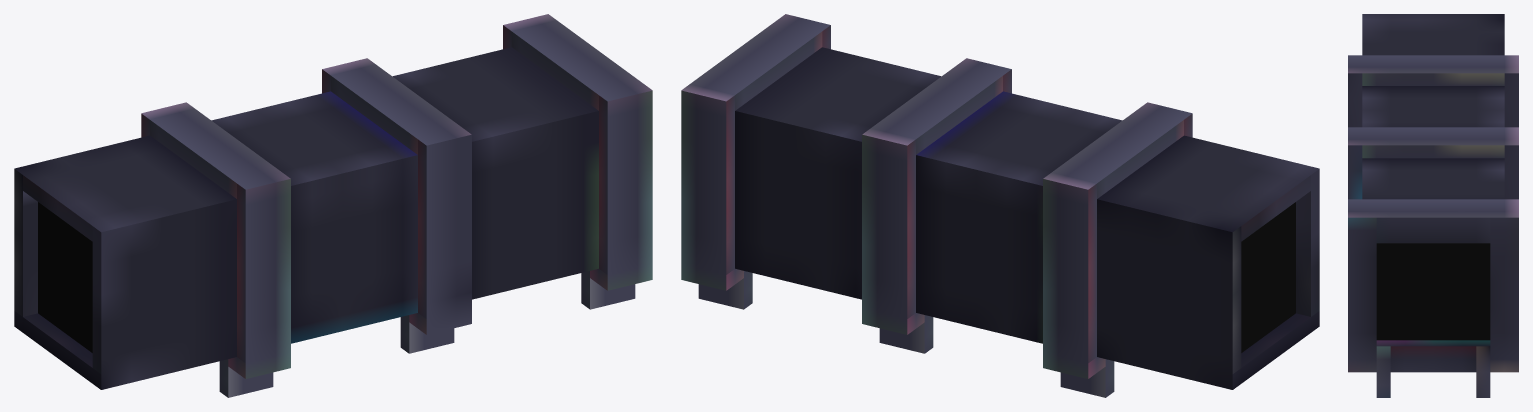
File: Vent_Module_H_00.fbx
3 views of the same model, side by side, from view 1: azimuth 30°, elevation 25°; view 2: azimuth 150°, elevation 25°; view 3: azimuth 270°, elevation 25° (orthographic). The views are drawn at different scales.
Parts seen in each view (by area): view 1: Vent_Module_H_00; view 2: Vent_Module_H_00; view 3: Vent_Module_H_00.
Part boxes in pixels (<box>): Vent_Module_H_00: <box>14,14,652,397</box>; Vent_Module_H_00: <box>681,14,1319,397</box>; Vent_Module_H_00: <box>1348,14,1518,397</box>.
Bounding box in the file's own units: 180 × 70 × 60.
